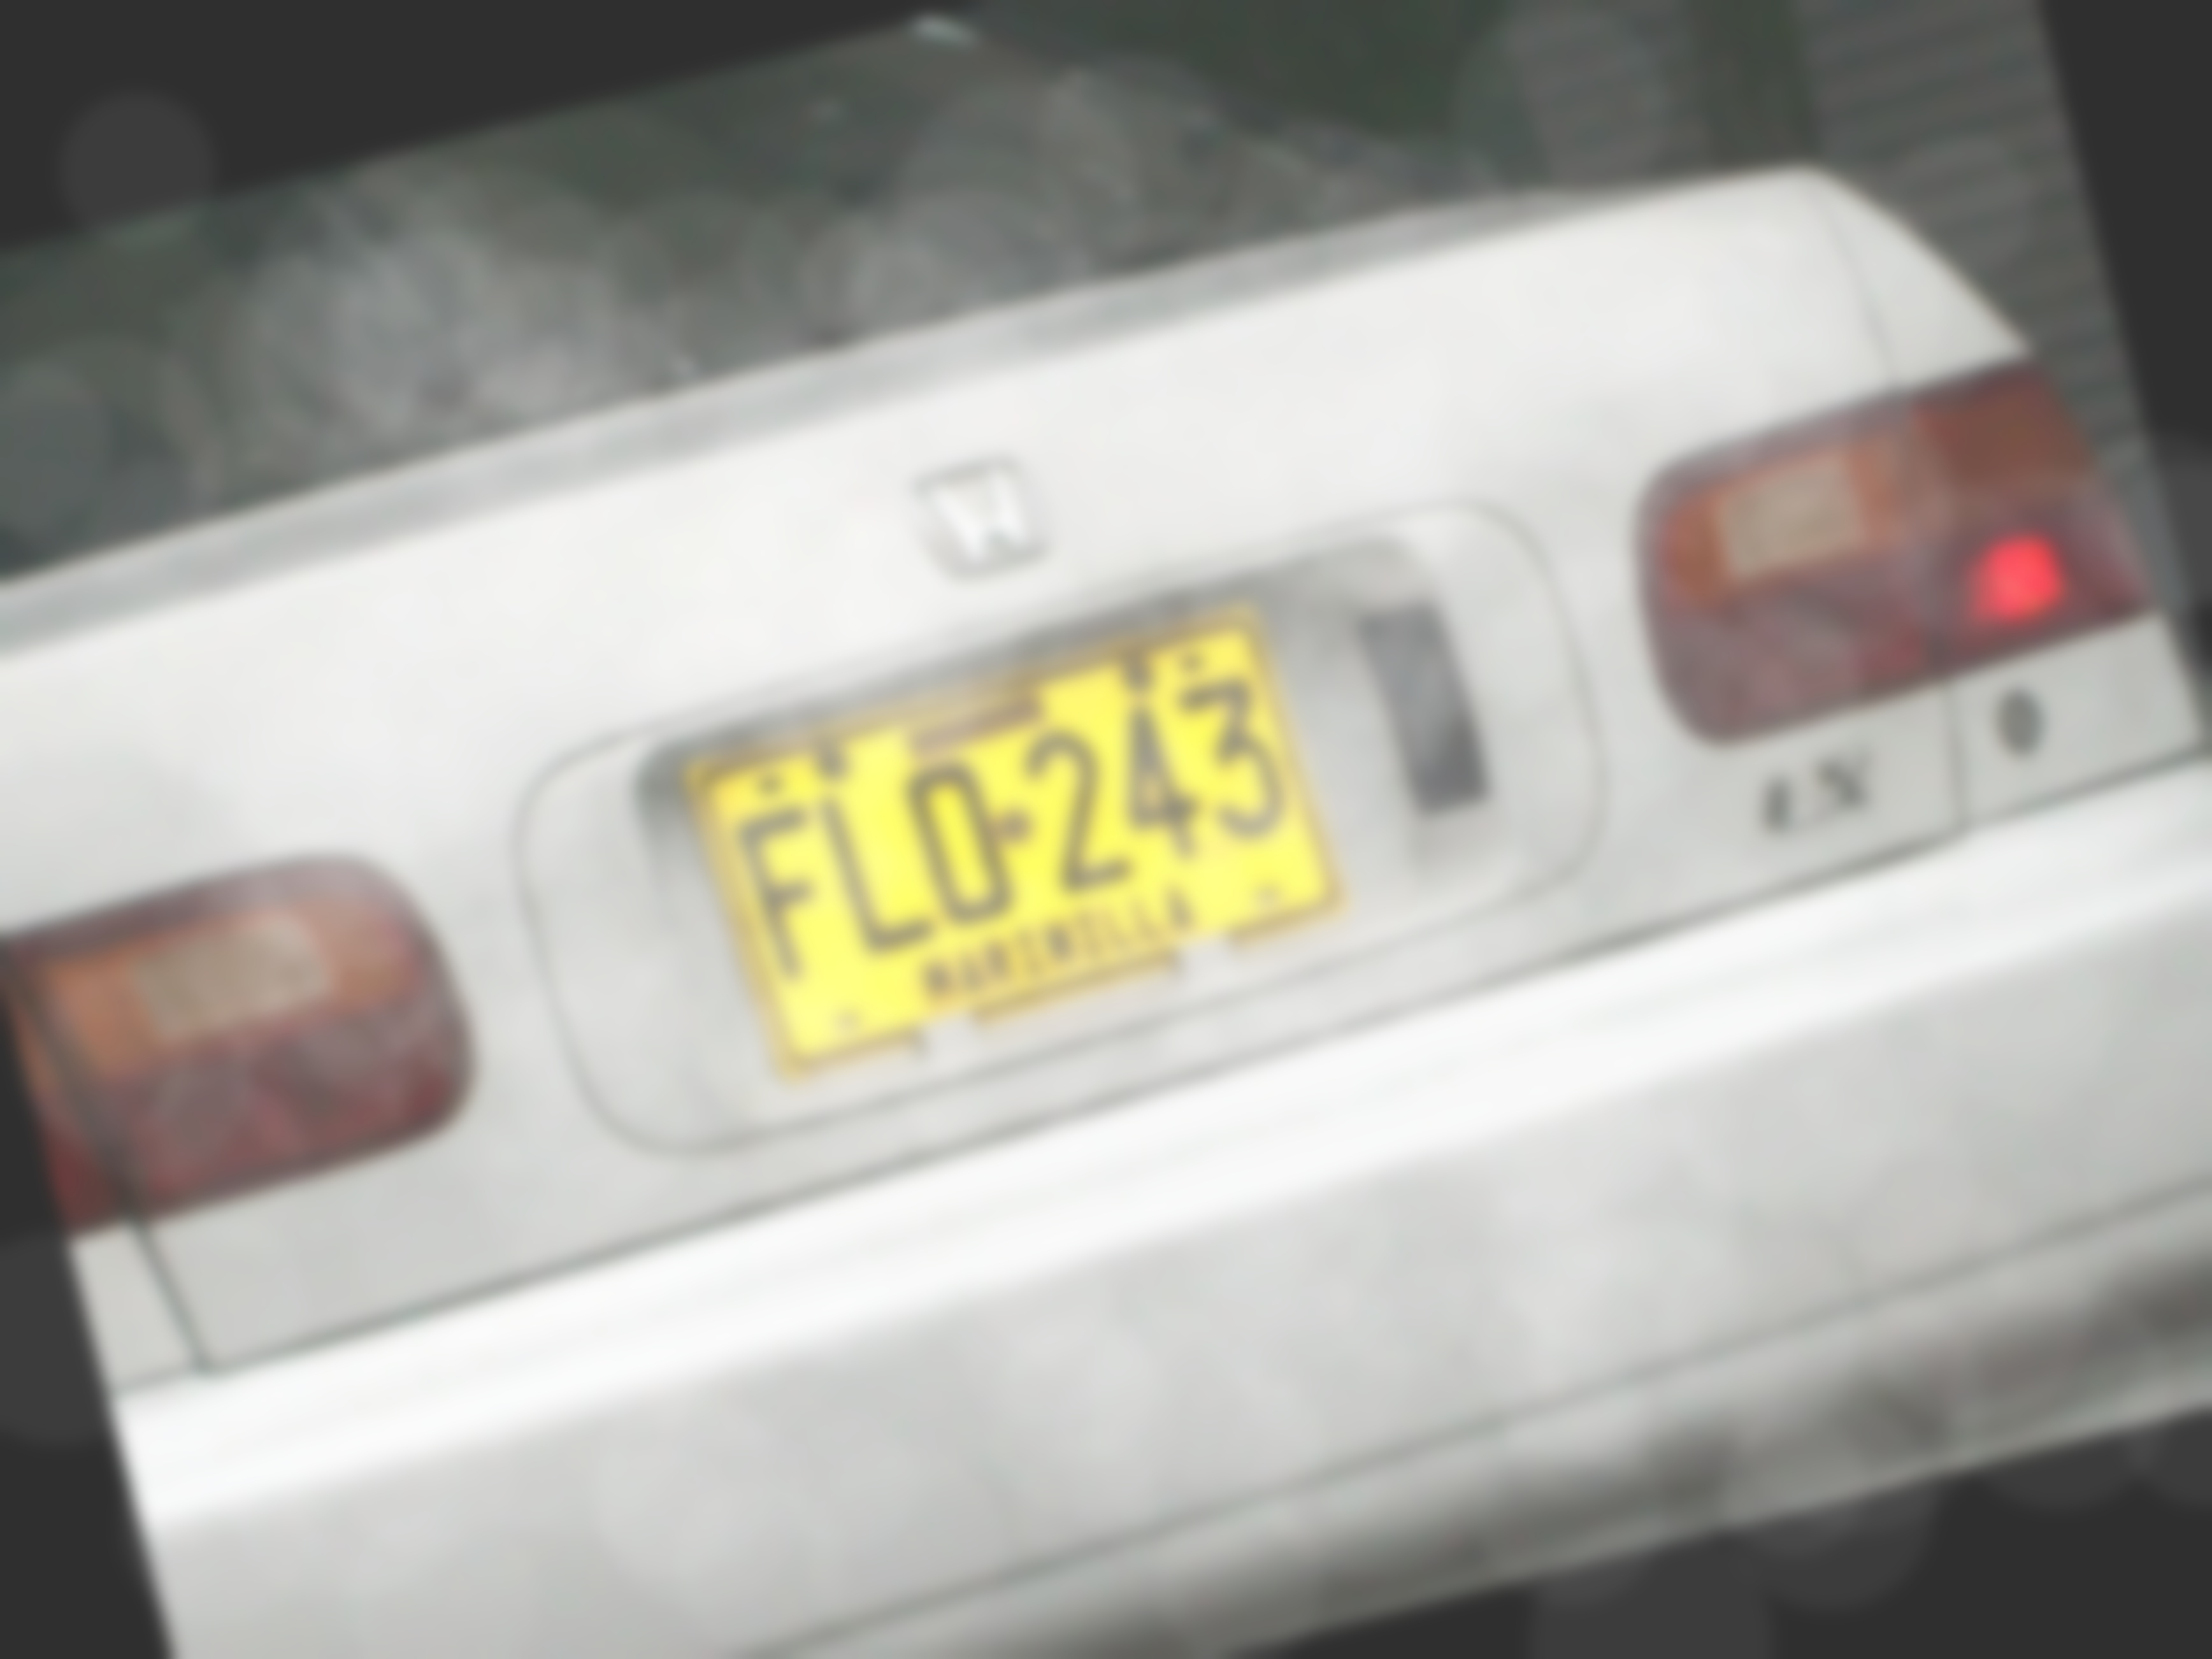placas: (654, 580, 1368, 1107)
